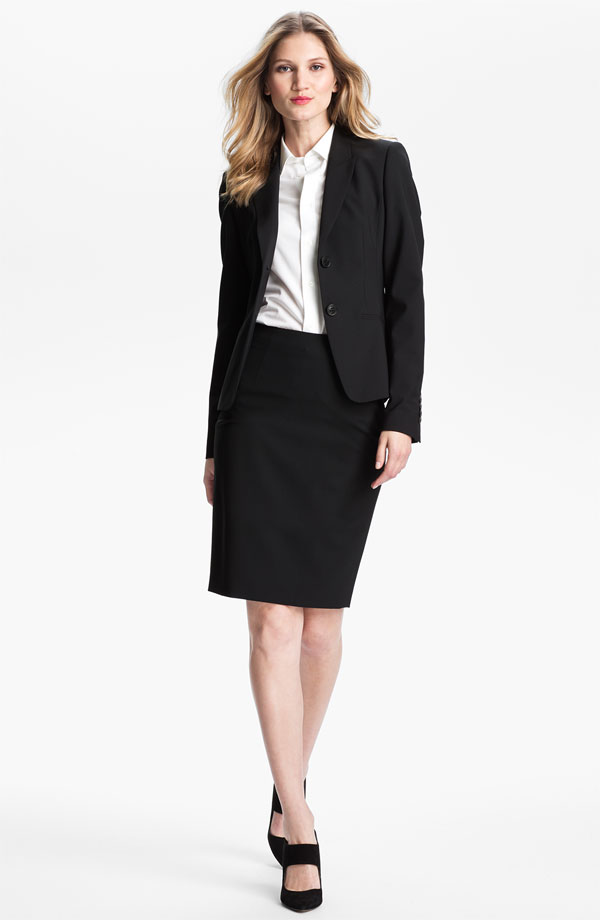F_W_suit jacket: (191, 125, 441, 411)
F_shirt: (272, 119, 322, 333)
F_tailored skirt: (194, 322, 387, 614)
